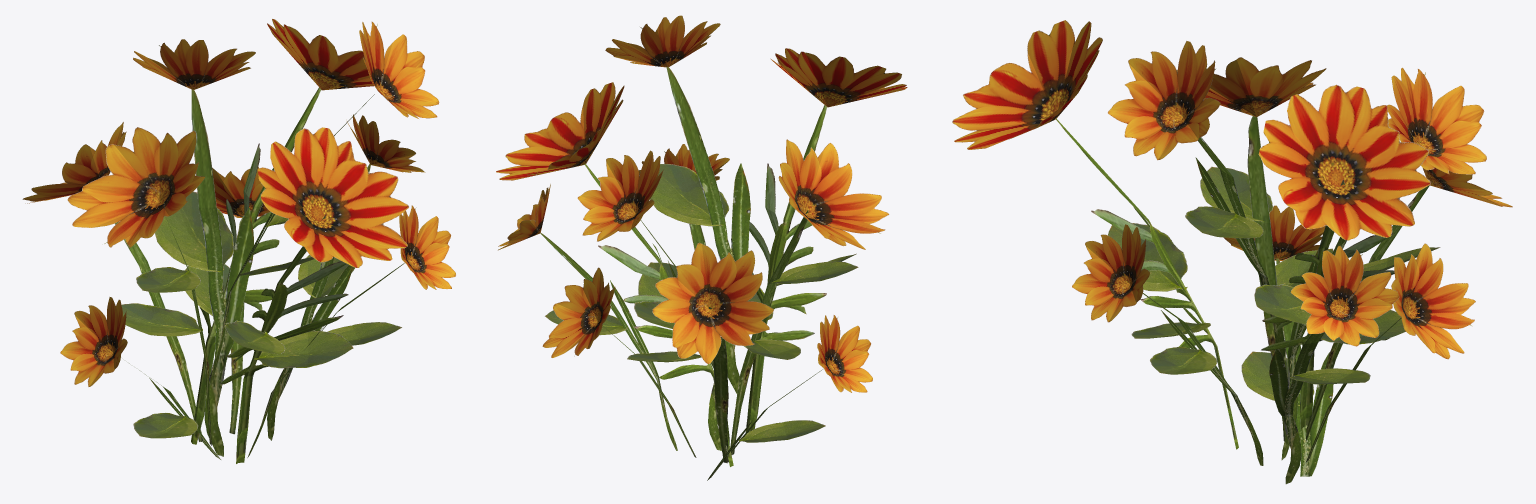
The model's file is PW_Flower_Cluster_01.fbx.
3 renders of one model, left to right at view 1: azimuth 30°, elevation 25°; view 2: azimuth 150°, elevation 25°; view 3: azimuth 270°, elevation 25°, orthographic. The views are drawn at different scales.
Parts seen in each view (by area): view 1: PW_Flower_Cluster_LOD0; view 2: PW_Flower_Cluster_LOD0; view 3: PW_Flower_Cluster_LOD0.
Boxes of the visible parts, left/top/right/bottom form: PW_Flower_Cluster_LOD0: left=22, top=19, right=455, bottom=463; PW_Flower_Cluster_LOD0: left=496, top=15, right=907, bottom=480; PW_Flower_Cluster_LOD0: left=952, top=20, right=1512, bottom=484.
Size of what is drawn, in the model's own units: 60.21 by 67.61 by 73.23.
Materials: 1 (1 with a texture image).
